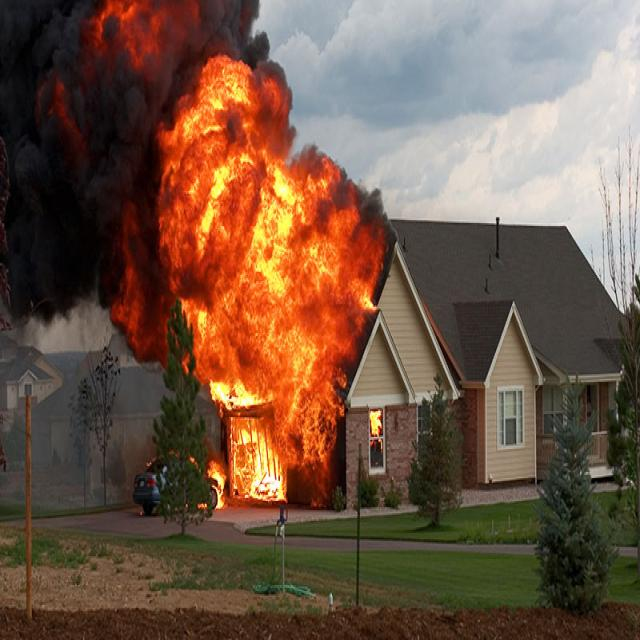fire: (182, 77, 288, 430), (292, 174, 345, 452)
